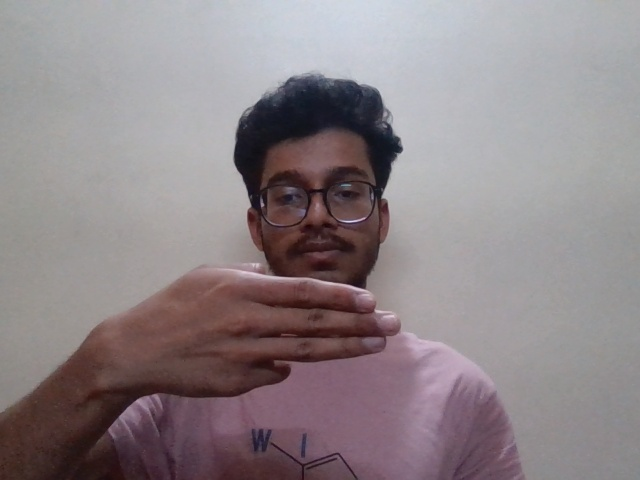wednesday: (64, 258, 418, 409)
